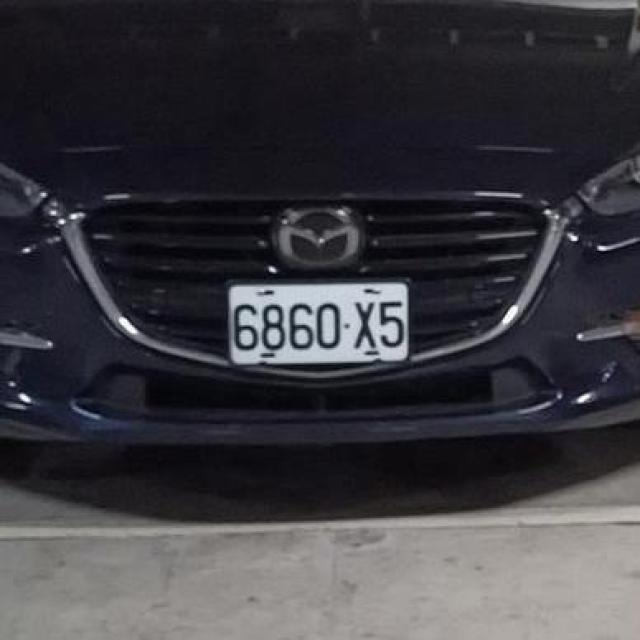W: (212, 259, 420, 384)
